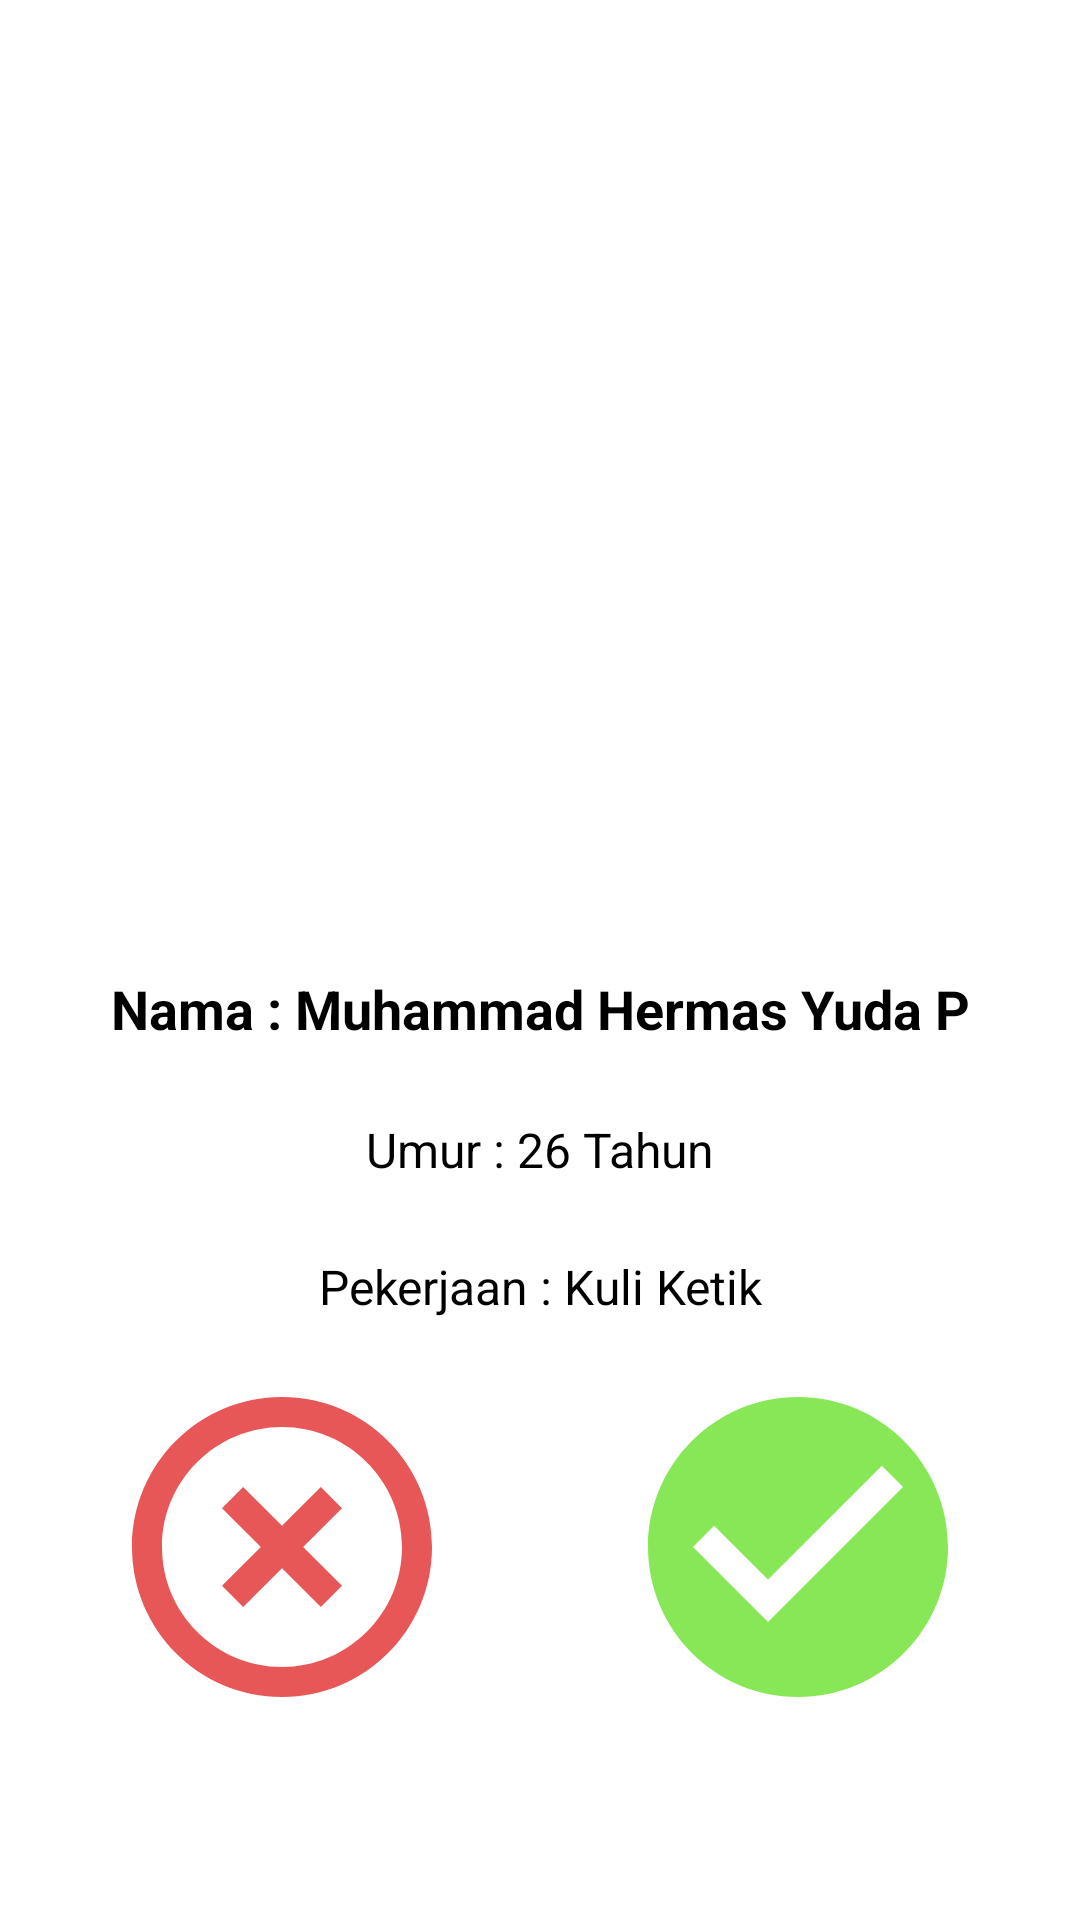

Named icons in this screenshot (1080 x 1920) and their centers, point (x, y):
decline: point (282, 1547)
okay: point (798, 1547)
